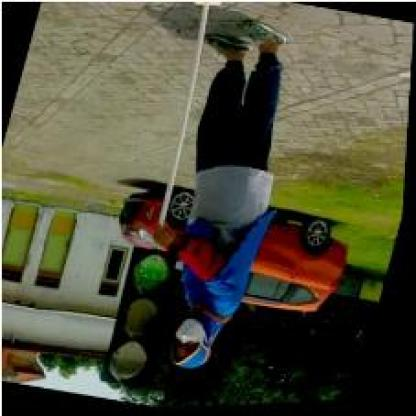green: (97, 244, 189, 394)
